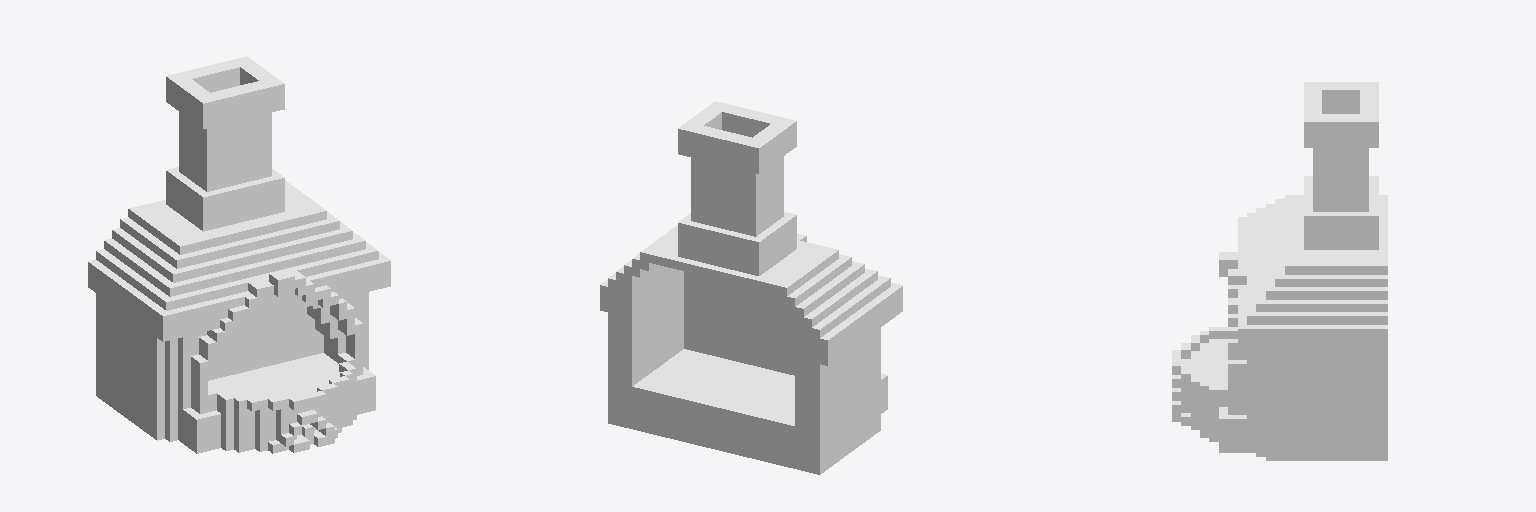
File: forge.obj
The picture shows the model from 3 angles: view 1: azimuth 30°, elevation 25°; view 2: azimuth 150°, elevation 25°; view 3: azimuth 270°, elevation 25°; orthographic projection.
Visible parts, largest first — view 1: object 1; view 2: object 1; view 3: object 1.
Boxes of the visible parts, x1=… form: object 1: x1=88, y1=56, x2=390, y2=453; object 1: x1=600, y1=101, x2=902, y2=474; object 1: x1=1172, y1=82, x2=1387, y2=460.
Size of the model in its own units: 2.8 by 3.6 by 2.3.